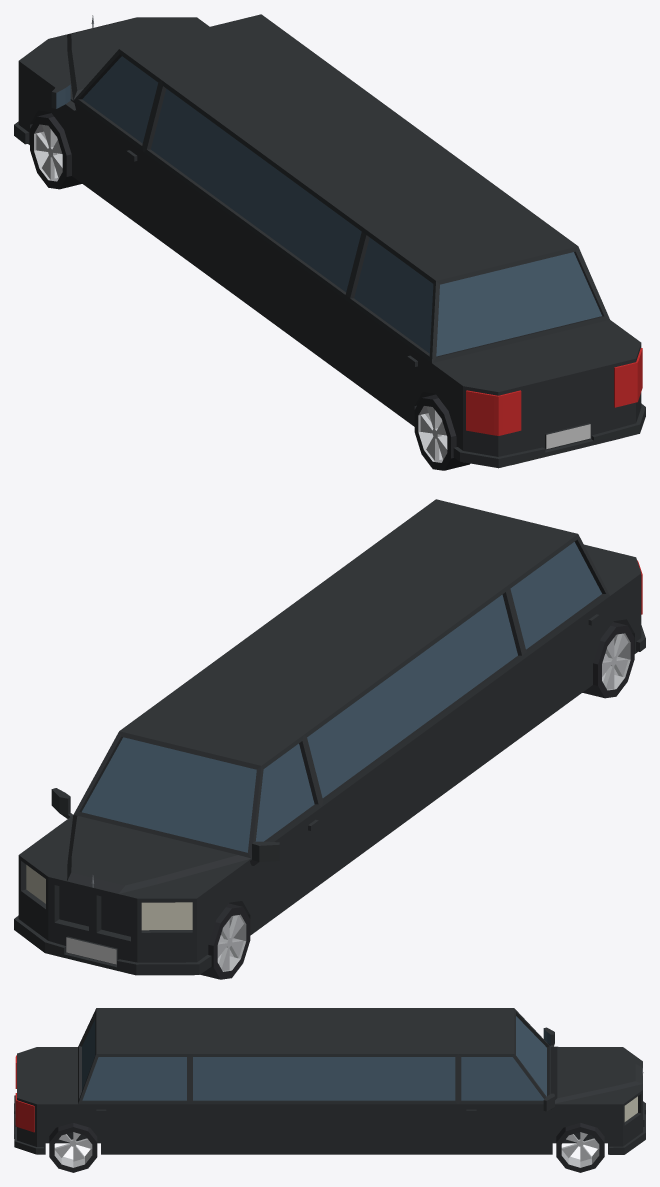
File: limo.glb
3 renders of one model, top to bottom at view 1: azimuth 30°, elevation 25°; view 2: azimuth 150°, elevation 25°; view 3: azimuth 270°, elevation 25°, orthographic. The views are drawn at different scales.
Visible parts, largest first — view 1: Body, Wheel_RL, Wheel_FL; view 2: Body, Wheel_RL, Wheel_FL; view 3: Body, Wheel_FR, Wheel_RR.
Part boxes in pixels (x1,y1,x2,y2): Body: (14,14,645,468); Wheel_RL: (414,394,470,470); Wheel_FL: (30,113,81,189); Body: (14,499,645,975); Wheel_RL: (582,622,634,698); Wheel_FL: (200,903,250,979); Body: (14,1008,645,1154); Wheel_FR: (556,1123,604,1172); Wheel_RR: (49,1123,97,1172).
Bounding box in the file's own units: 2.81 × 2.01 × 10.24.
